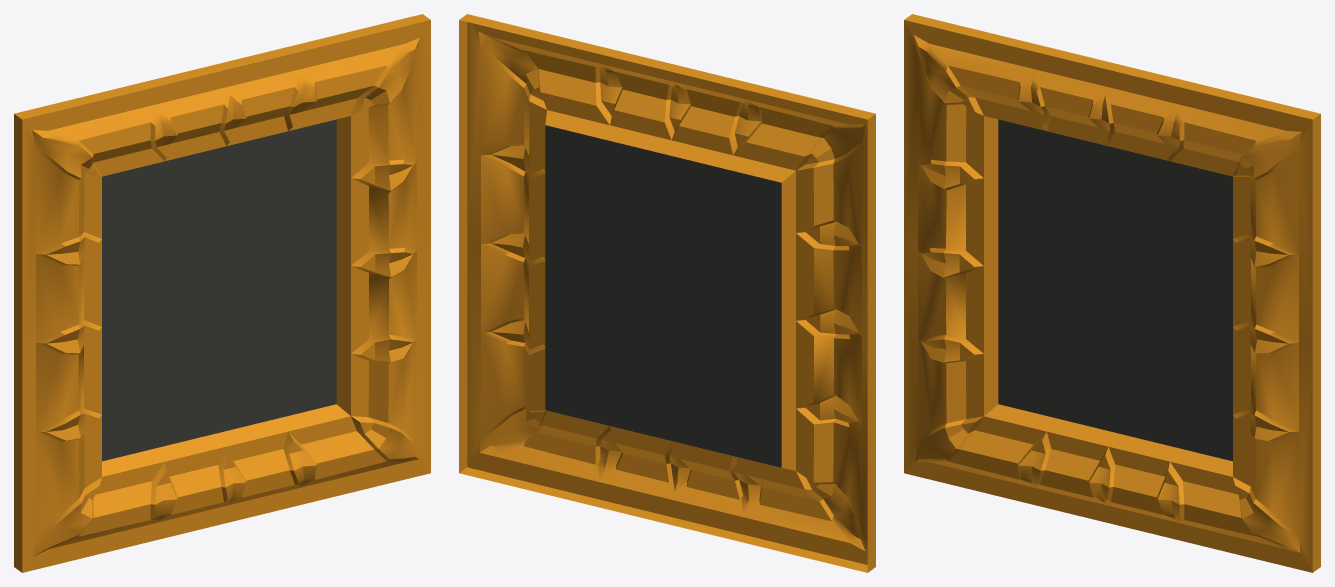
File: PaintingFrameLeaves.fbx
3 views of the same model, side by side, from view 1: azimuth 30°, elevation 25°; view 2: azimuth 150°, elevation 25°; view 3: azimuth 330°, elevation 25° (orthographic).
Parts seen in each view (by area): view 1: Plane.002; view 2: Plane.002; view 3: Plane.002.
Boxes of the visible parts, x1,y1,x2,y2 form: Plane.002: (14,14,430,572); Plane.002: (459,14,875,572); Plane.002: (904,14,1320,572).
Size of the model in its own units: 67.75 by 71.82 by 4.98.
